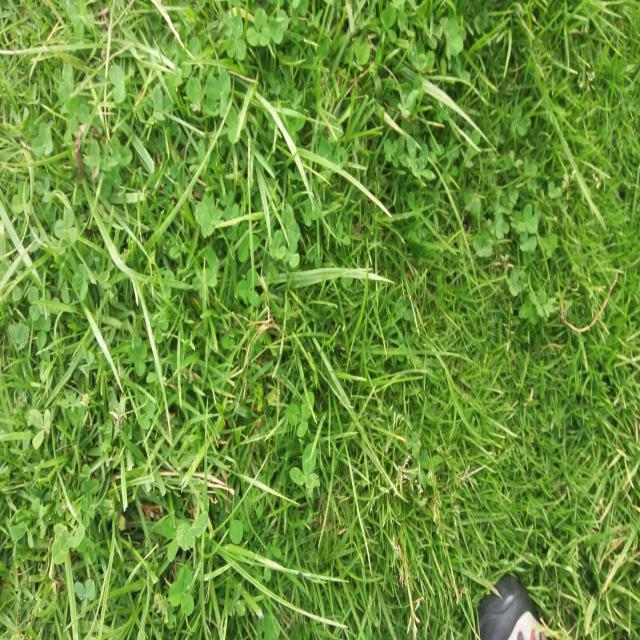Four Leaf Clover: (194, 194, 224, 238)
